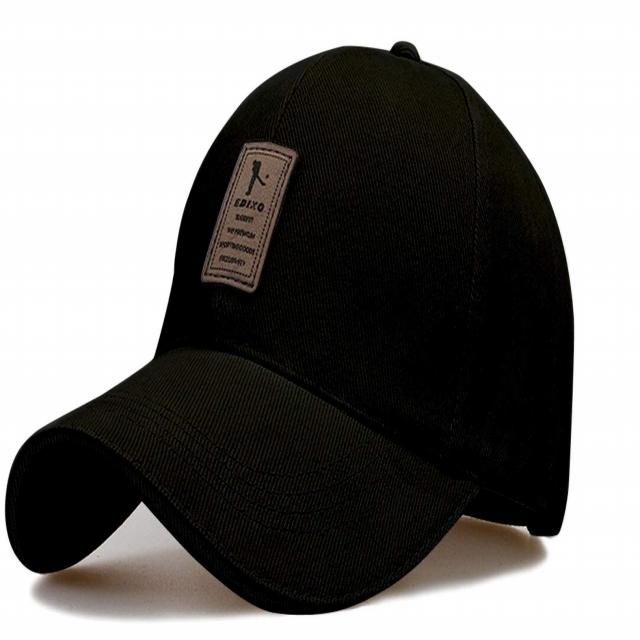Cap: (1, 42, 606, 611)
